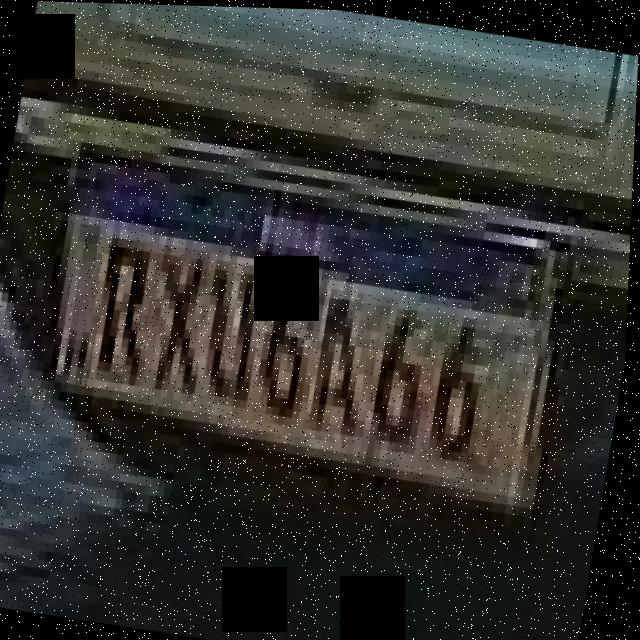6: (422, 309, 509, 468), (363, 290, 447, 452), (254, 268, 325, 425)
A: (308, 272, 389, 439)
R: (90, 226, 166, 385)
U: (194, 254, 275, 410)
X: (137, 235, 219, 399)
